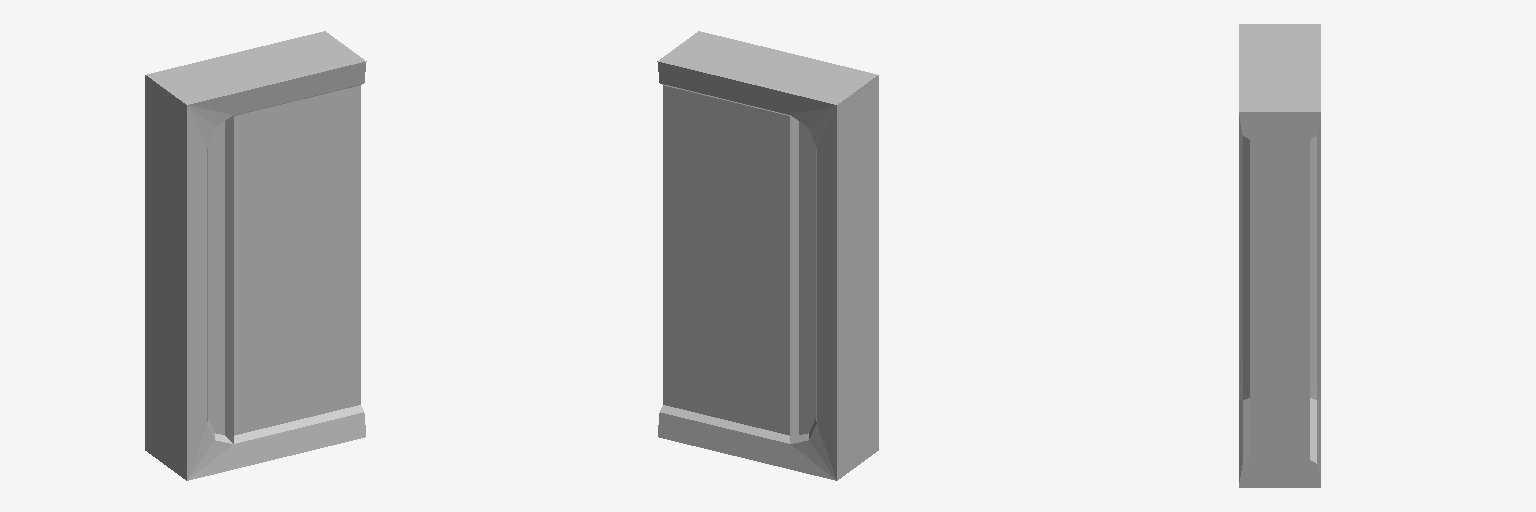
File: rustedGate.obj
3 renders of one model, left to right at view 1: azimuth 30°, elevation 25°; view 2: azimuth 150°, elevation 25°; view 3: azimuth 270°, elevation 25°, orthographic.
Visible parts, largest first — view 1: Cube; view 2: Cube; view 3: Cube.
Boxes of the visible parts, x1=… form: Cube: x1=145, y1=31, x2=366, y2=480; Cube: x1=657, y1=31, x2=878, y2=480; Cube: x1=1239, y1=24, x2=1320, y2=487.
Bounding box in the file's own units: 2 × 4 × 0.8.